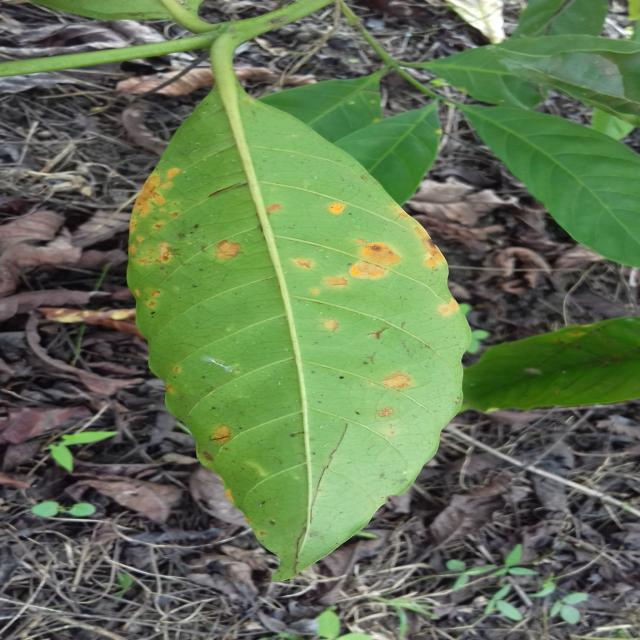Enfermedad-Roya: (126, 65, 472, 577)
